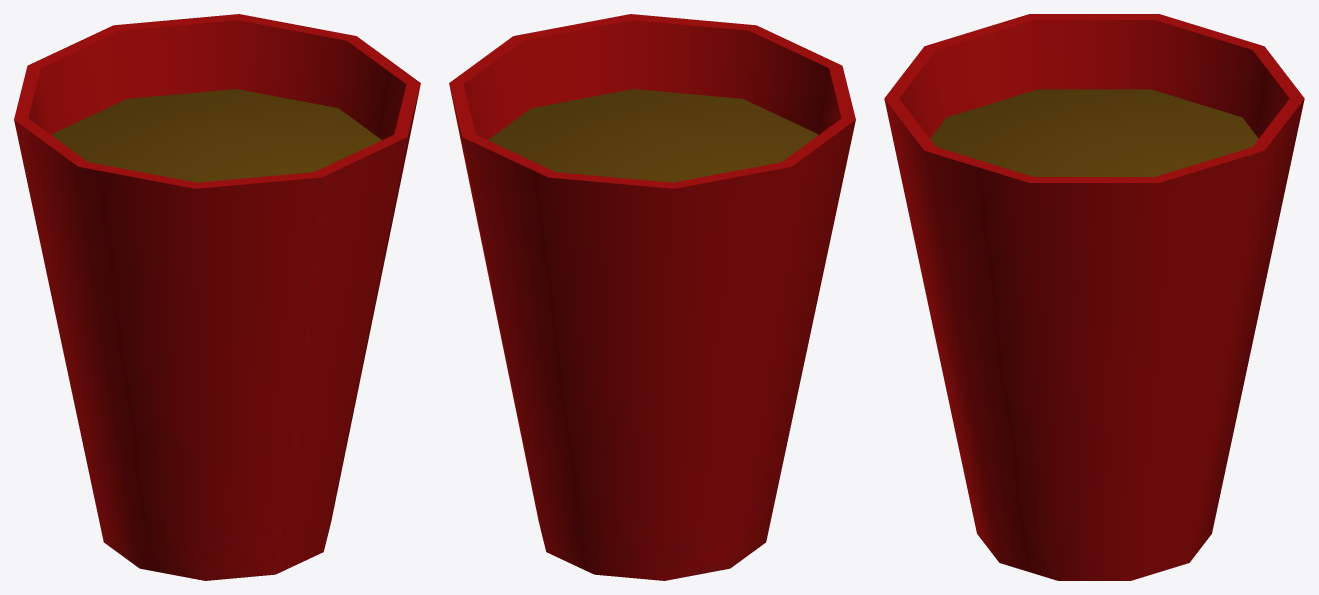
File: M_GelasCoffee.fbx
The picture shows the model from 3 angles, left to right: view 1: azimuth 30°, elevation 25°; view 2: azimuth 150°, elevation 25°; view 3: azimuth 270°, elevation 25°; orthographic projection.
Visible parts, largest first — view 1: Cylinder.009; view 2: Cylinder.009; view 3: Cylinder.009.
Boxes of the visible parts, left/top/right/bottom form: Cylinder.009: left=14, top=14, right=420, bottom=580; Cylinder.009: left=449, top=14, right=855, bottom=580; Cylinder.009: left=884, top=14, right=1304, bottom=580.
Bounding box in the file's own units: 9.05 × 10.88 × 9.52.
